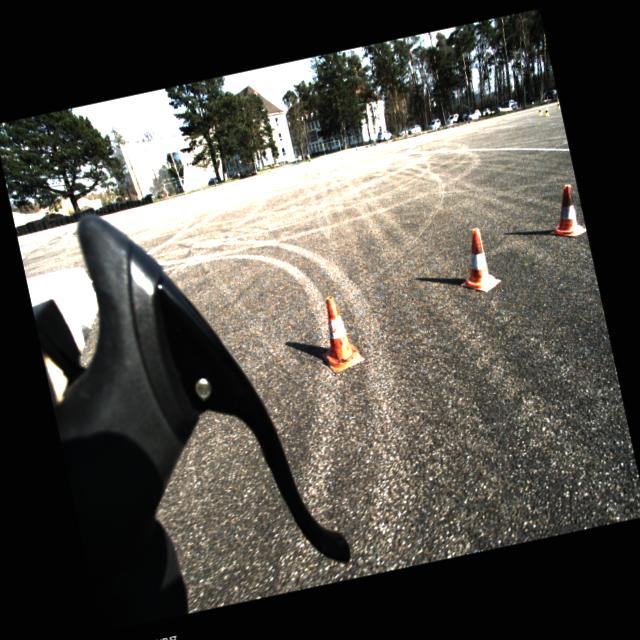orange_cone: (310, 291, 366, 374), (450, 225, 502, 297), (540, 182, 588, 240)
yellow_cone: (537, 106, 543, 115), (543, 107, 549, 116), (555, 102, 560, 108)
